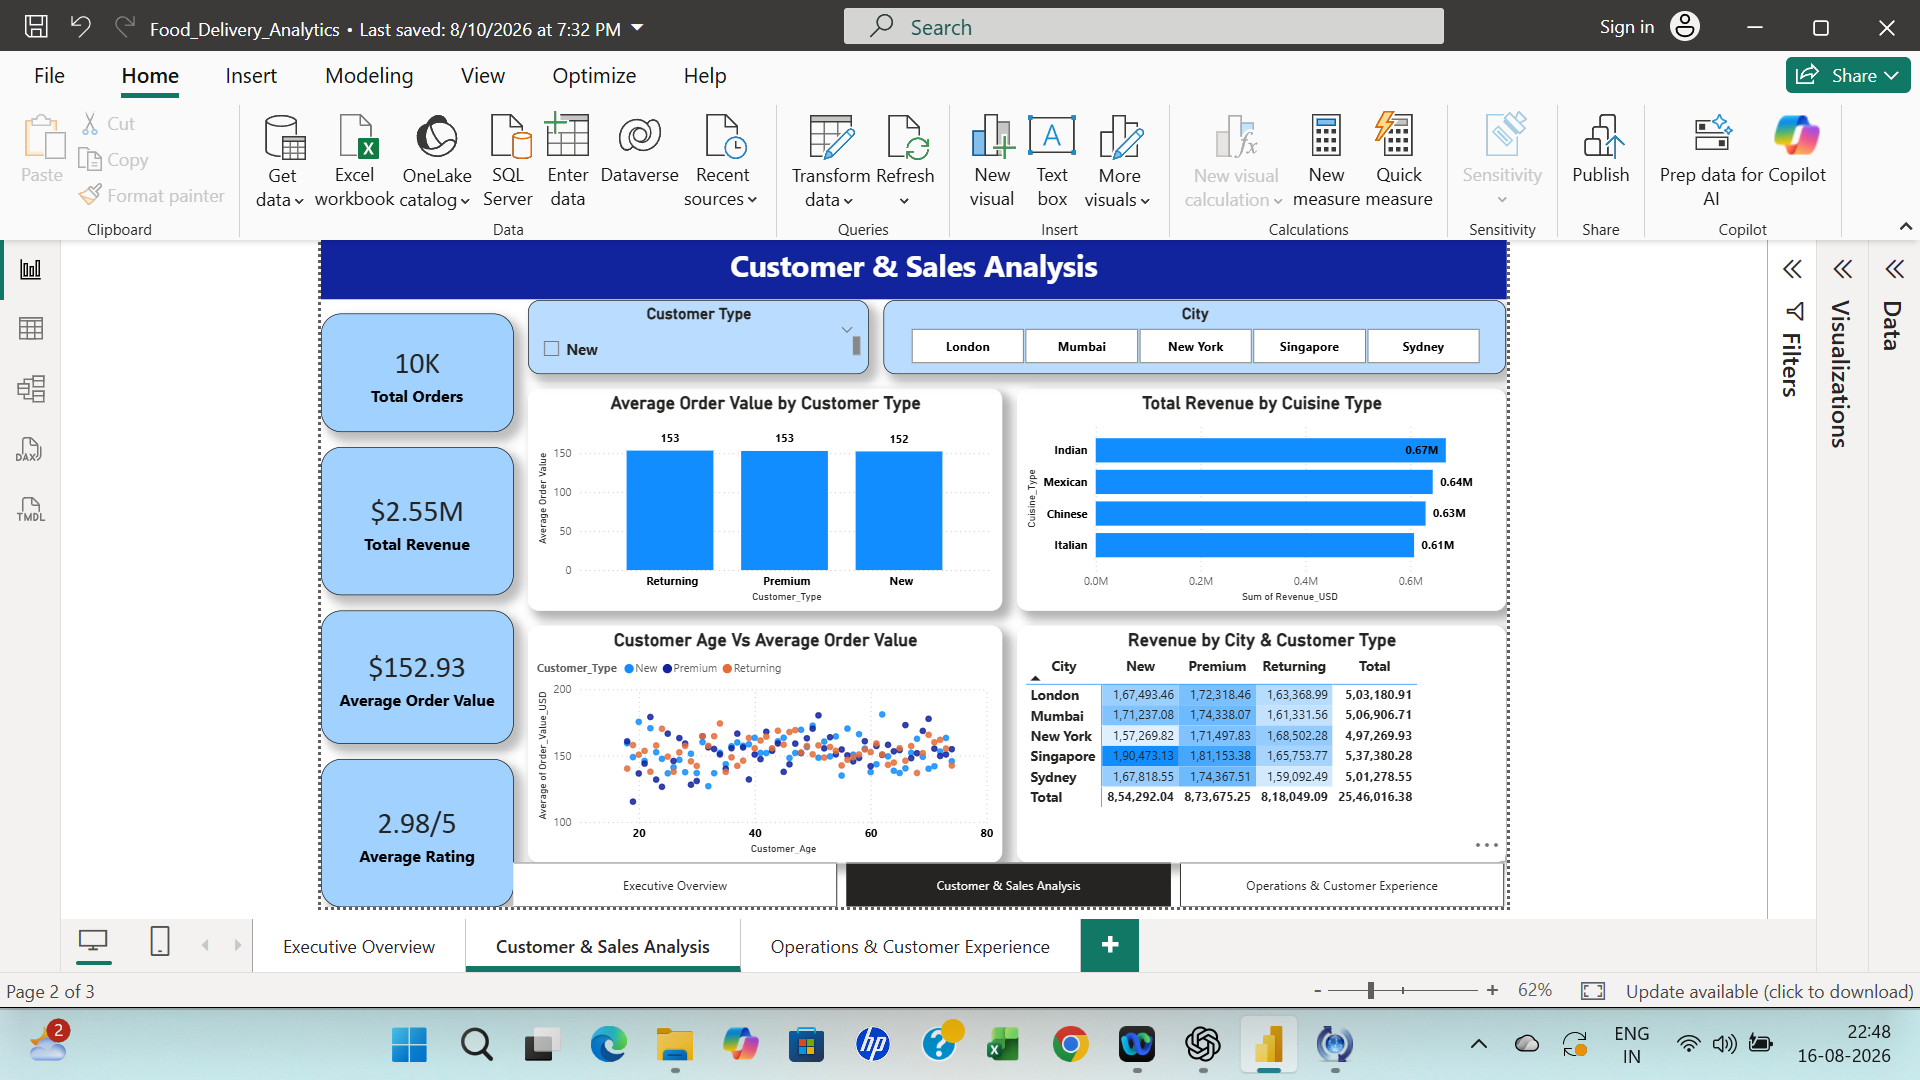

What the dashboard file says about the page in this screenshot:
{"tool":"powerbi","page":{"name":"Customer & Sales Analysis","canvas":[1280,720],"ordinal":1},"visuals":[{"type":"textbox","box":[0,0,1280,64],"z":0},{"type":"card","fields":{"Values":["Food_Delivery_Analytics.Total Orders"]},"box":[0,80,208,128],"z":1000},{"type":"card","fields":{"Values":["Food_Delivery_Analytics.Total Revenue"]},"box":[0,224,208,160],"z":2000},{"type":"card","fields":{"Values":["Food_Delivery_Analytics.Average Order Value"]},"box":[0,400,208,144],"z":3000},{"type":"card","fields":{"Values":["Food_Delivery_Analytics.Average Rating"]},"box":[0,560,208,160],"z":4000},{"type":"clusteredColumnChart","title":"Average Order Value by Customer Type","fields":{"Category":["Food_Delivery_Analytics.Customer_Type"],"Y":["Food_Delivery_Analytics.Average Order Value"]},"box":[224,160,512,240],"z":5000},{"type":"clusteredBarChart","title":"Total Revenue by Cuisine Type","fields":{"Category":["Food_Delivery_Analytics.Cuisine_Type"],"Y":["Sum(Food_Delivery_Analytics.Revenue_USD)"]},"box":[752,160,528,240],"z":6000},{"type":"scatterChart","title":"Customer Age Vs Average Order Value","fields":{"X":["Food_Delivery_Analytics.Customer_Age"],"Y":["Avg(Food_Delivery_Analytics.Order_Value_USD)"],"Series":["Food_Delivery_Analytics.Customer_Type"]},"box":[224,416,512,256],"z":7000},{"type":"pivotTable","title":"Revenue by City & Customer Type","fields":{"Rows":["Food_Delivery_Analytics.City"],"Columns":["Food_Delivery_Analytics.Customer_Type"],"Values":["Sum(Food_Delivery_Analytics.Revenue_USD)"]},"box":[752,416,528,256],"z":8000},{"type":"slicer","title":"Customer Type","fields":{"Values":["Food_Delivery_Analytics.Customer_Type"]},"box":[224,64,368,80],"z":9000},{"type":"slicer","title":"City","fields":{"Values":["Food_Delivery_Analytics.City"]},"box":[608,64,672,80],"z":10000},{"type":"pageNavigator","box":[208,672,1072,48],"z":11000}]}

Visuals, with their boxes on the page's 1280x720 design canvas (x1, y1, x2, y2). These are canvas units, not pixel positions in the 1920x1080 screenshot, which may show the page scaled, cropped or inside an application window:
textbox: <bbox>0, 0, 1280, 64</bbox>
card - Food_Delivery_Analytics.Total Orders: <bbox>0, 80, 208, 208</bbox>
card - Food_Delivery_Analytics.Total Revenue: <bbox>0, 224, 208, 384</bbox>
card - Food_Delivery_Analytics.Average Order Value: <bbox>0, 400, 208, 544</bbox>
card - Food_Delivery_Analytics.Average Rating: <bbox>0, 560, 208, 720</bbox>
"Average Order Value by Customer Type" clusteredColumnChart: <bbox>224, 160, 736, 400</bbox>
"Total Revenue by Cuisine Type" clusteredBarChart: <bbox>752, 160, 1280, 400</bbox>
"Customer Age Vs Average Order Value" scatterChart: <bbox>224, 416, 736, 672</bbox>
"Revenue by City & Customer Type" pivotTable: <bbox>752, 416, 1280, 672</bbox>
"Customer Type" slicer: <bbox>224, 64, 592, 144</bbox>
"City" slicer: <bbox>608, 64, 1280, 144</bbox>
pageNavigator: <bbox>208, 672, 1280, 720</bbox>
